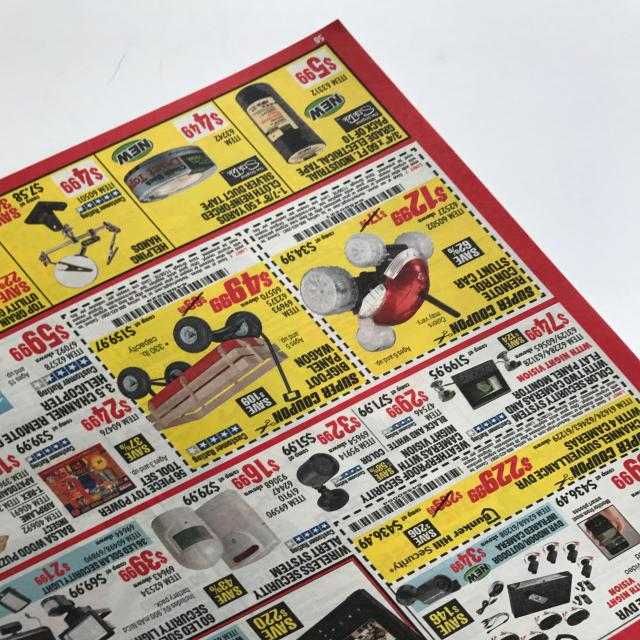paper: (1, 18, 639, 639)
